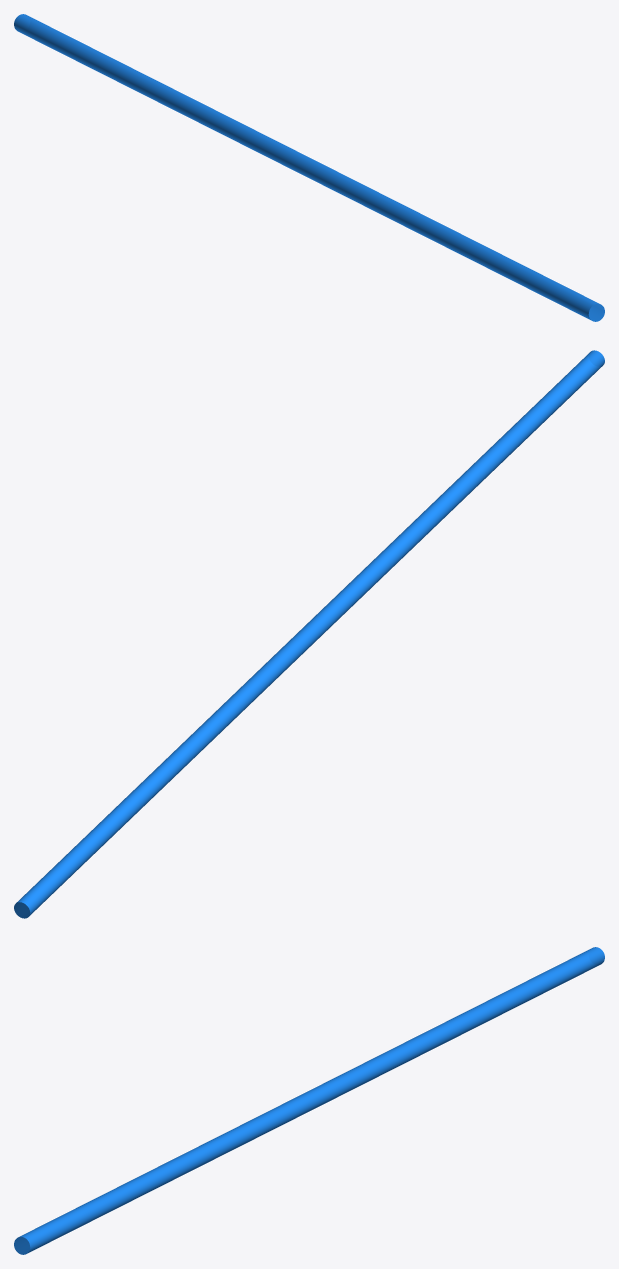
File: Event_421364160_MET.fbx
The picture shows the model from 3 angles, top to bottom: view 1: azimuth 30°, elevation 25°; view 2: azimuth 150°, elevation 25°; view 3: azimuth 330°, elevation 25°; orthographic projection.
Parts seen in each view (by area): view 1: Model; view 2: Model; view 3: Model.
Boxes of the visible parts, bbox=[...] form: Model: bbox=[14, 14, 604, 321]; Model: bbox=[14, 350, 604, 918]; Model: bbox=[14, 947, 604, 1254].
Bounding box in the file's own units: 0.04 × 0.3482 × 2.46.
